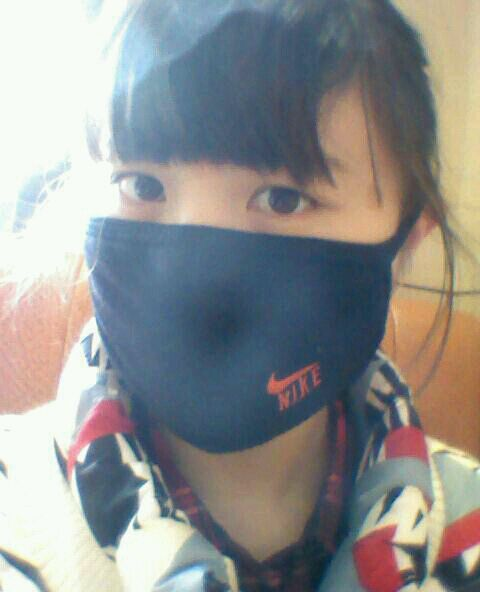face_mask: (95, 69, 371, 457)
